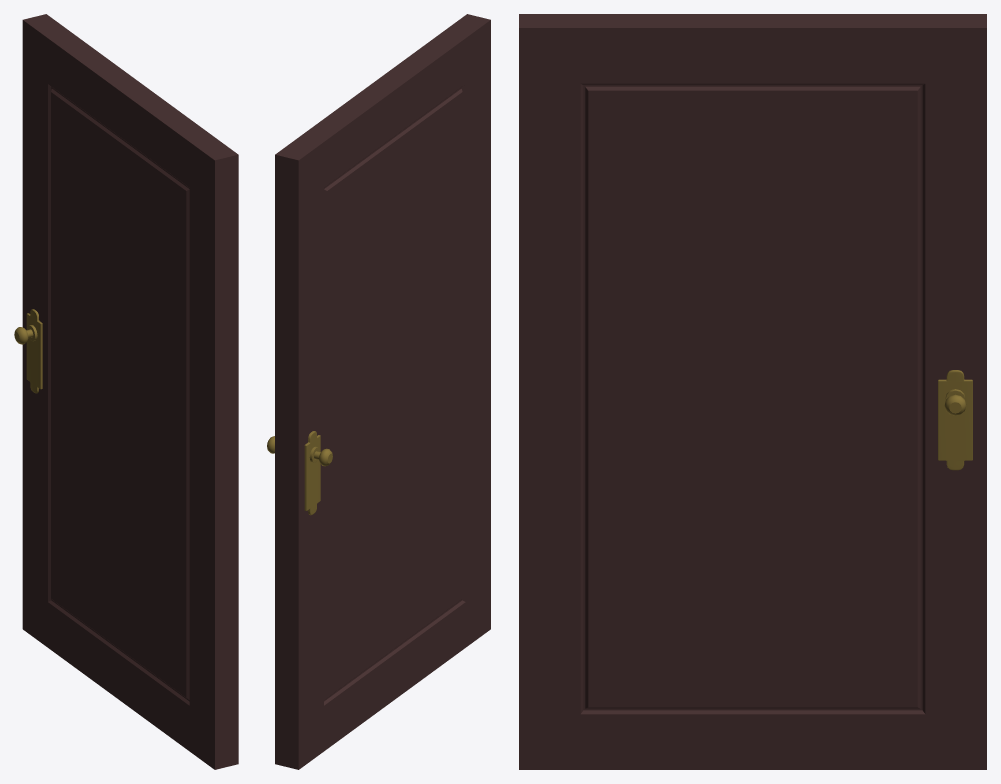
Rendered from HallwayDoor.fbx.
3 views of the same model, side by side, from view 1: azimuth 30°, elevation 25°; view 2: azimuth 150°, elevation 25°; view 3: azimuth 270°, elevation 25° (orthographic). The views are drawn at different scales.
Visible parts, largest first — view 1: HallwayDoor; view 2: HallwayDoor; view 3: HallwayDoor.
Part boxes in pixels (<box>): HallwayDoor: <box>14,14,238,769</box>; HallwayDoor: <box>267,14,490,769</box>; HallwayDoor: <box>519,14,986,769</box>.
Size of the model in its own units: 22.23 by 213 by 122.
